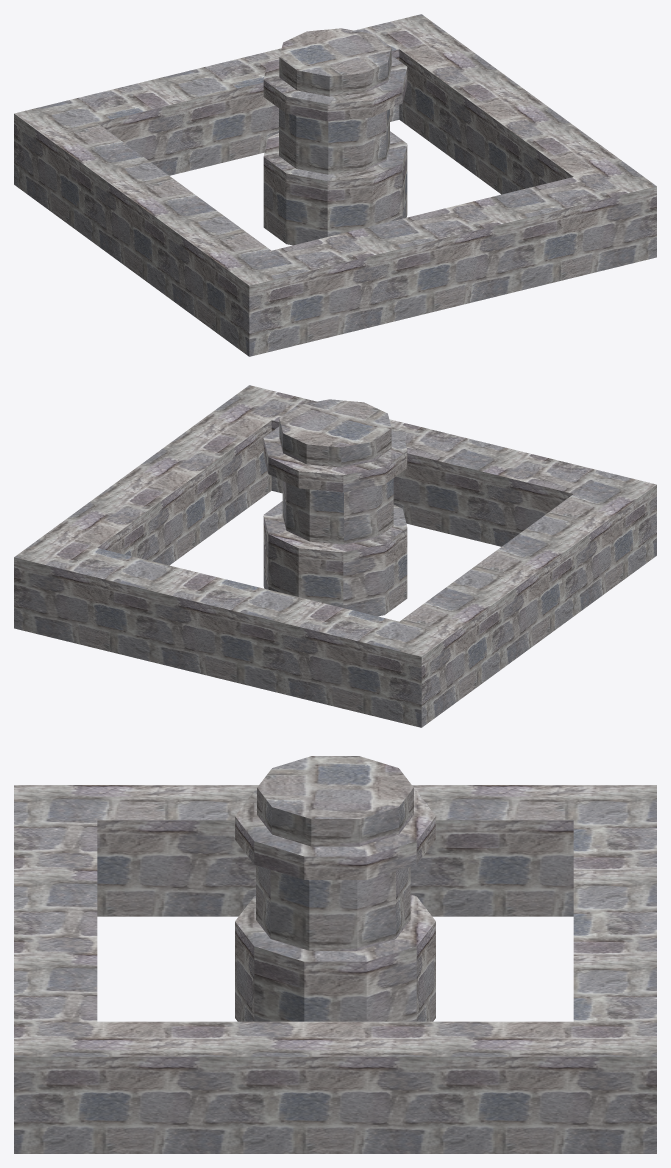
The model's file is Fuente.fbx.
3 views of the same model, one above another, from view 1: azimuth 30°, elevation 25°; view 2: azimuth 150°, elevation 25°; view 3: azimuth 270°, elevation 25° (orthographic). The views are drawn at different scales.
Parts seen in each view (by area): view 1: Fuente; view 2: Fuente; view 3: Fuente.
Part boxes in pixels (box(x1,y1,x2,y2)): Fuente: box(14, 14, 656, 356); Fuente: box(14, 385, 656, 727); Fuente: box(14, 756, 656, 1153).
Bounding box in the file's own units: 10.8 × 4.27 × 10.8.
